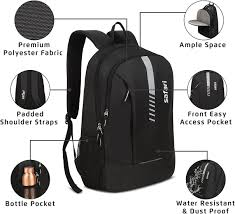backpack: (62, 21, 175, 193)
